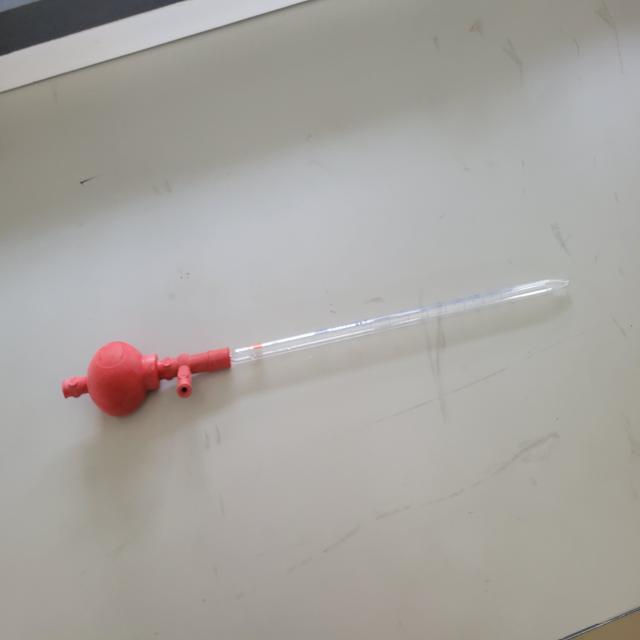Volumetric_Pipet: (42, 244, 589, 458)
